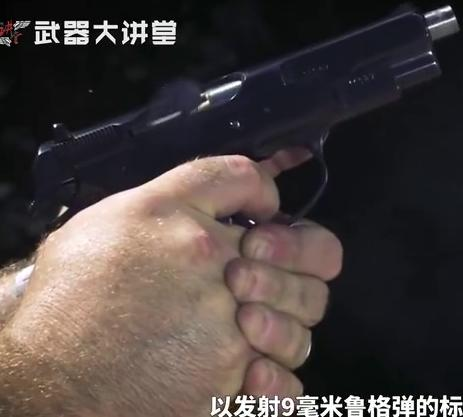gun: (1, 1, 463, 417)
